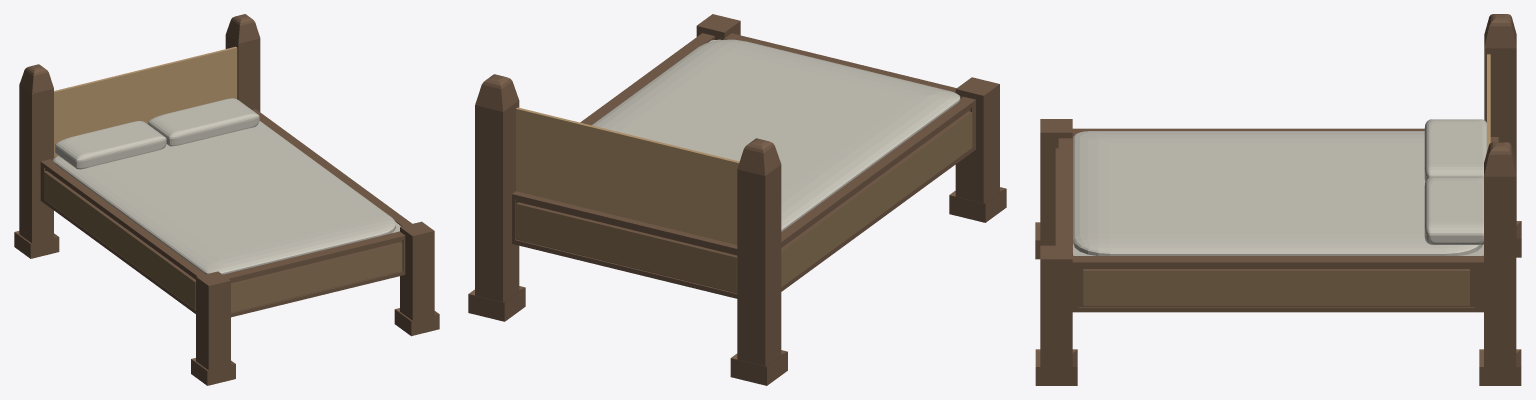
Rendered from lit.fbx.
The picture shows the model from 3 angles, left to right: view 1: azimuth 30°, elevation 25°; view 2: azimuth 150°, elevation 25°; view 3: azimuth 270°, elevation 25°; orthographic projection. The views are drawn at different scales.
Parts seen in each view (by area): view 1: Cube.528; view 2: Cube.528; view 3: Cube.528.
Part boxes in pixels (x1=…): Cube.528: x1=14, y1=14, x2=439, y2=385; Cube.528: x1=468, y1=14, x2=1006, y2=385; Cube.528: x1=1035, y1=14, x2=1521, y2=385.
Size of the model in its own units: 183 by 136 by 258.
